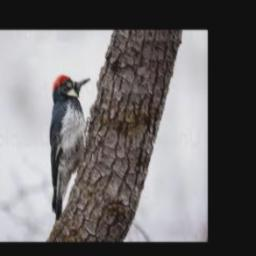Woodpecker: (50, 75, 91, 222)
